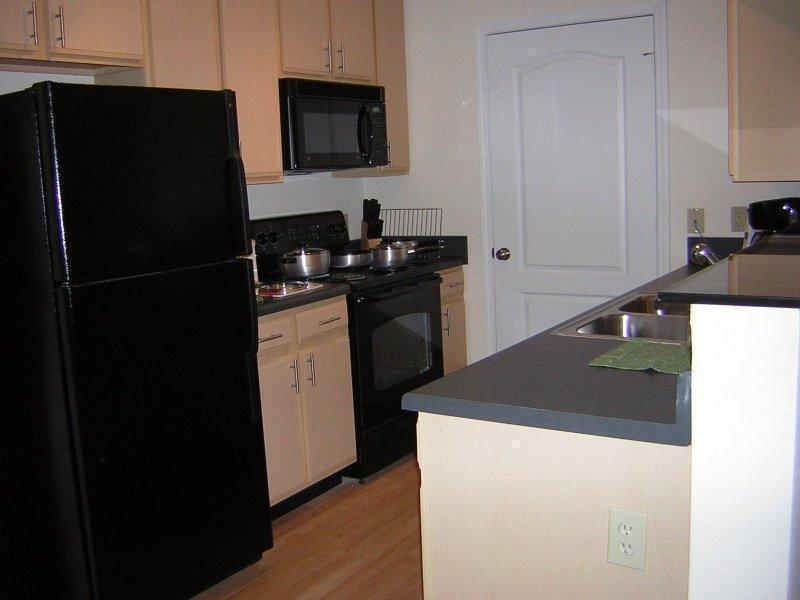Electrodomestico: (16, 80, 269, 579), (353, 275, 440, 447)
Puerta: (484, 32, 661, 284)
